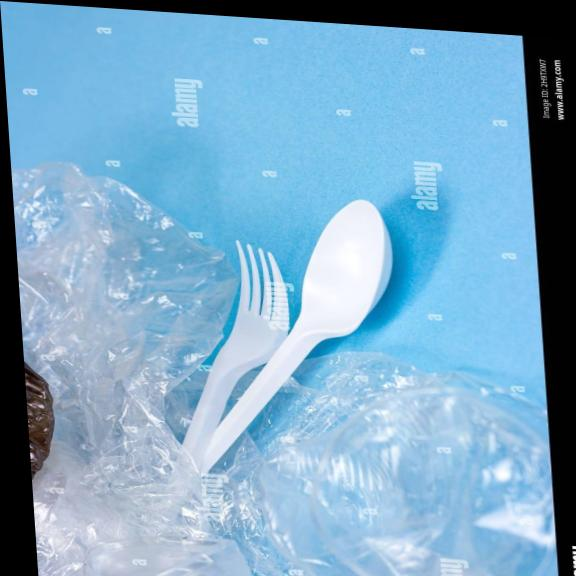Plastik: (186, 199, 392, 471), (184, 241, 289, 462)
